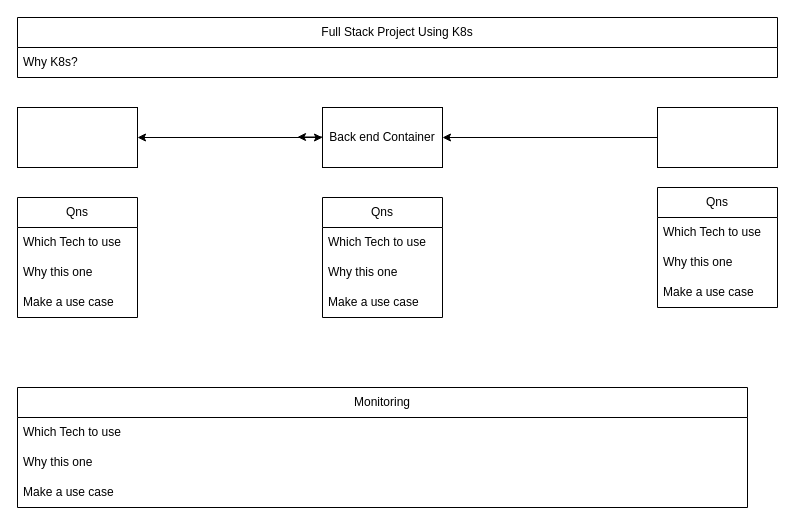
This 795x525 diagram has some shape labels left out. The centre of each missing label's shape, as x and y in pixels:
DB: the point at 717,137
Front end Container: the point at 77,137
